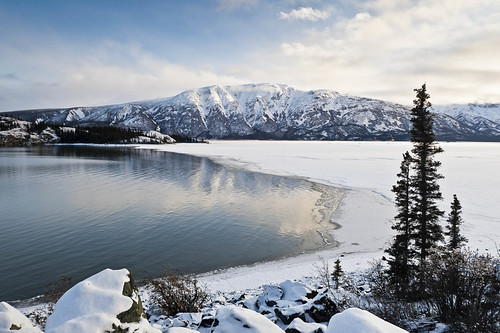mountain: (39, 44, 474, 127)
river: (1, 139, 292, 287)
sky: (1, 1, 500, 96)
tree: (385, 84, 460, 294)
